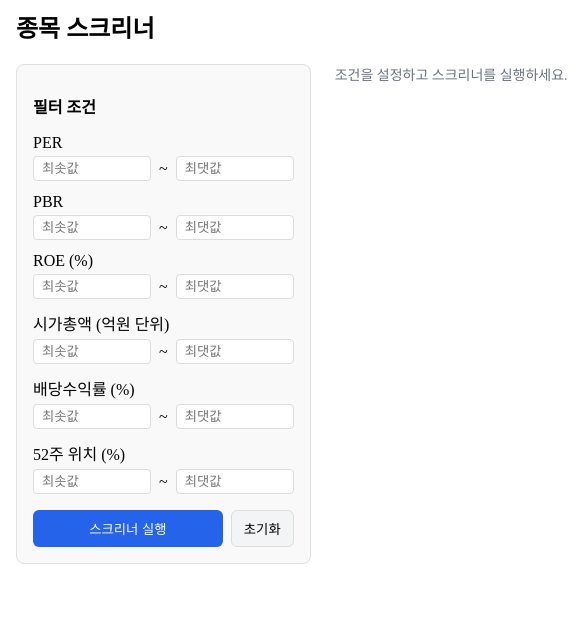
Test: Screener 페이지 › API 오류 시 에러 메시지가 표시된다
The image size is (584, 623).
Click the button with test id "run-screener-btn" at (128, 529), box x1=33 y1=510 x2=223 y2=547
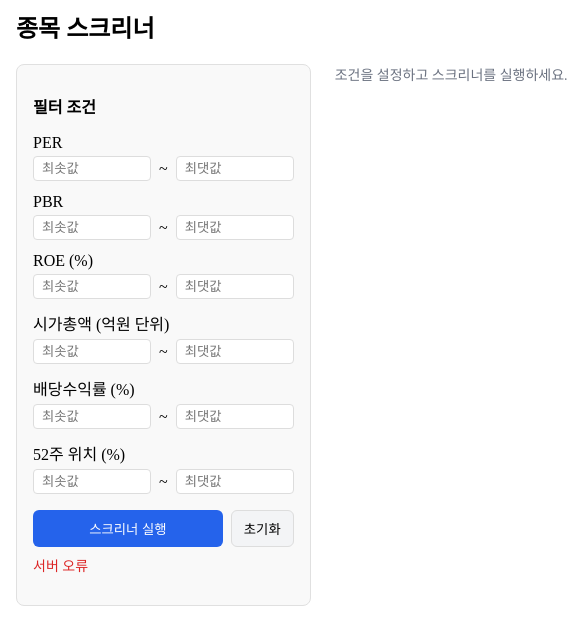
Check: the text "서버 오류" is shown, box x1=33 y1=559 x2=88 y2=574
